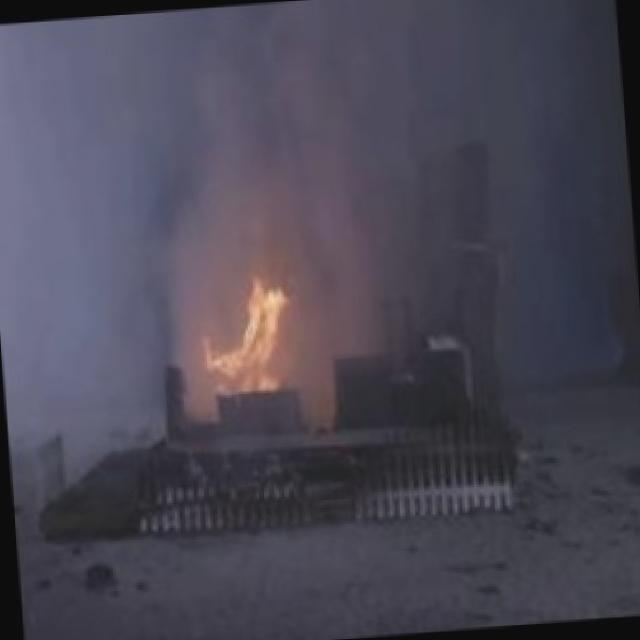fire: (168, 258, 327, 442)
smoke: (0, 0, 626, 275)
